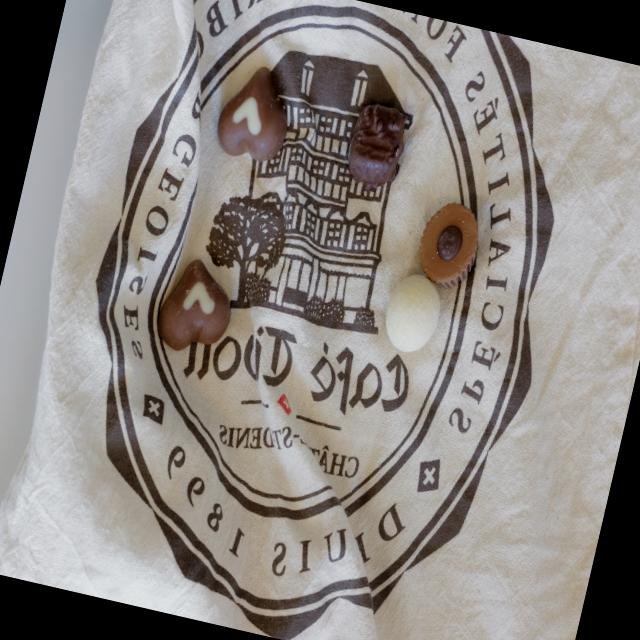Comtesse: (378, 266, 446, 358)
Noblesse: (411, 195, 483, 290)
Passion_au_lait: (150, 254, 239, 360), (211, 58, 298, 165)
Tentation_noir: (342, 99, 410, 191)
